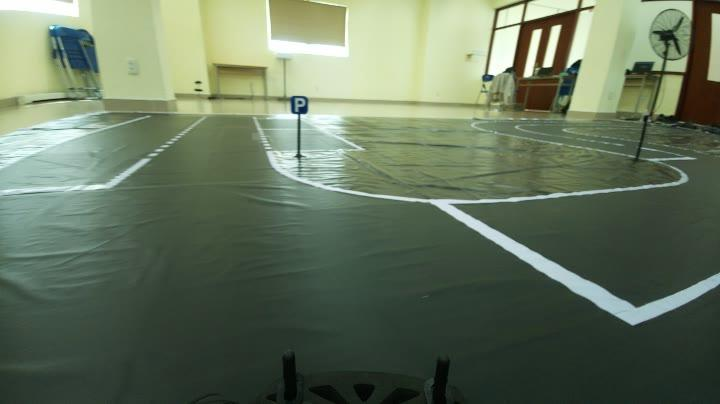parking: (286, 90, 314, 118)
